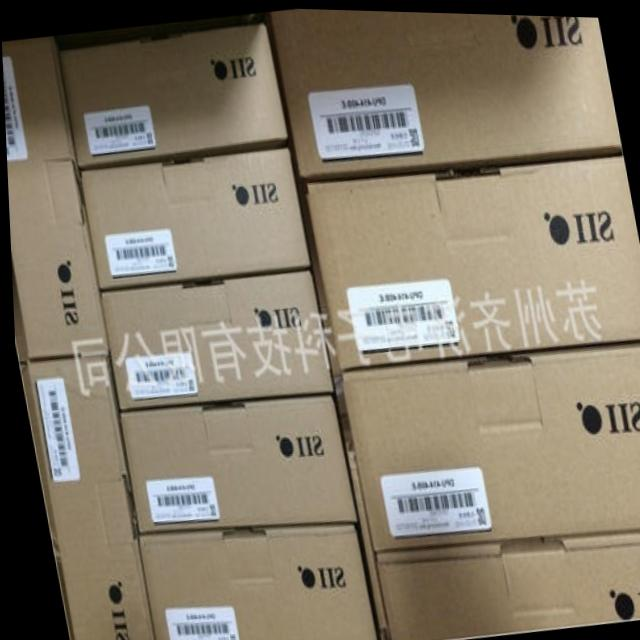box: (297, 152, 640, 375), (330, 341, 640, 548), (269, 7, 621, 176), (25, 357, 149, 640), (57, 22, 288, 167), (2, 37, 105, 361), (116, 393, 352, 533), (78, 148, 308, 290), (97, 269, 329, 408), (370, 528, 640, 640), (134, 523, 372, 640)
